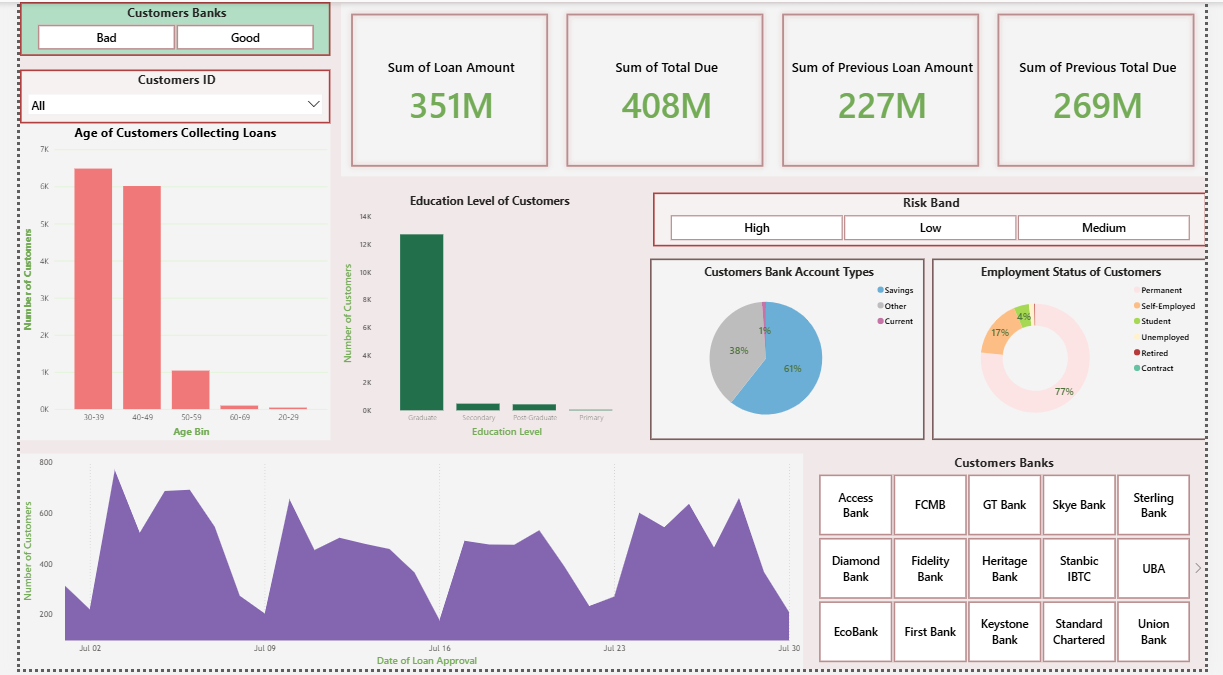

The page's visual inventory and layout, read from the dashboard file:
{"tool":"powerbi","page":{"name":"Page 1","canvas":[1920,1080],"ordinal":0},"visuals":[{"type":"cardVisual","fields":{"Data":["Sum(Sheet1.loanamount_x)","Sum(Sheet1.Total Due)","Sum(Sheet1.Previous Loan Amount)","Sum(Sheet1.Previous Total Due)"]},"box":[520,1.7,1400,280],"z":0},{"type":"clusteredColumnChart","title":"Age of Customers Collecting Loans","fields":{"Y":["CountNonNull(Sheet1.customerid)"],"Category":["Sheet1.Age Bin"]},"box":[0,196.7,502.8,512.5],"z":1000},{"type":"pieChart","title":"Customers Bank Account Types","fields":{"Category":["Sheet1.bank_account_type"],"Y":["CountNonNull(Sheet1.customerid)"]},"box":[1020.1,415.3,444.5,293.9],"z":2000},{"type":"donutChart","title":"Employment Status of Customers","fields":{"Category":["Sheet1.employment_status_clients"],"Y":["CountNonNull(Sheet1.customerid)"]},"box":[1476.7,415.3,444.5,293.9],"z":3000},{"type":"clusteredColumnChart","title":"Education Level of Customers","fields":{"Y":["CountNonNull(Sheet1.customerid)"],"Category":["Sheet1.level_of_education_clients"]},"box":[516.5,309.3,485.8,400.8],"z":4000},{"type":"slicer","title":"Customers Banks","fields":{"Values":["Sheet1.bank_name_clients"]},"box":[1267.9,731.1,650.9,349.8],"z":5000},{"type":"slicer","title":"Customers Banks","fields":{"Values":["Sheet1.good_bad_flag"]},"box":[0,0,502.8,87.4],"z":6000},{"type":"slicer","title":"Risk Band","fields":{"Values":["Sheet1.risk_band"]},"box":[1025,308.5,896.2,87.4],"z":7000},{"type":"areaChart","fields":{"Y":["CountNonNull(Sheet1.customerid)"],"Category":["Sheet1.approveddate_x.Variation.Date Hierarchy.Year","Sheet1.approveddate_x.Variation.Date Hierarchy.Quarter","Sheet1.approveddate_x.Variation.Date Hierarchy.Month","Sheet1.approveddate_x.Variation.Date Hierarchy.Day"]},"box":[0,731.1,1267.9,349.8],"z":8000},{"type":"slicer","title":"Customers ID","fields":{"Values":["Sheet1.customerid"]},"box":[0,109.3,502.8,87.4],"z":9000}]}

Visuals, with their boxes in screenshot pixels (x1, y1, x2, y2), scaled from the page's 1920x1080 canvas onto the 1223x675 screenshot:
cardVisual - Sum(Sheet1.loanamount_x) x Sum(Sheet1.Total Due): l=331, t=1, r=1222, b=176
"Age of Customers Collecting Loans" clusteredColumnChart: l=0, t=123, r=320, b=443
"Customers Bank Account Types" pieChart: l=650, t=260, r=933, b=443
"Employment Status of Customers" donutChart: l=941, t=260, r=1222, b=443
"Education Level of Customers" clusteredColumnChart: l=329, t=193, r=638, b=444
"Customers Banks" slicer: l=808, t=457, r=1222, b=674
"Customers Banks" slicer: l=0, t=0, r=320, b=55
"Risk Band" slicer: l=653, t=193, r=1222, b=247
areaChart - CountNonNull(Sheet1.customerid) x Sheet1.approveddate_x.Variation.Date Hierarchy.Year: l=0, t=457, r=808, b=674
"Customers ID" slicer: l=0, t=68, r=320, b=123
